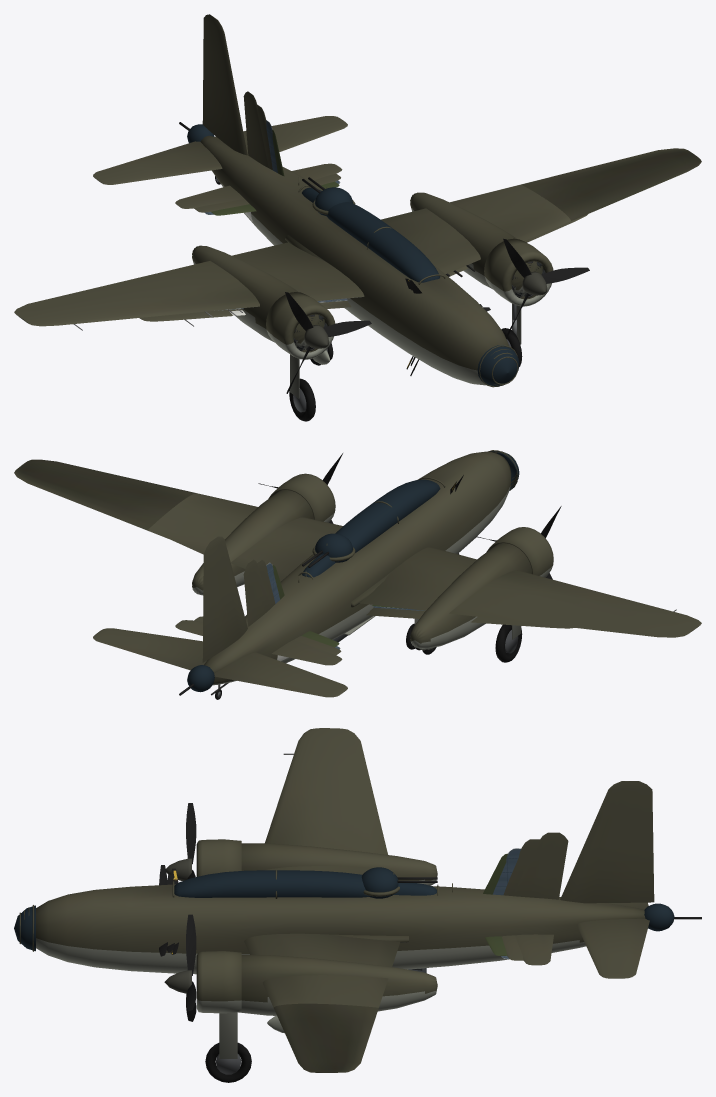
The model's file is aircraft.glb.
3 renders of one model, top to bottom at view 1: azimuth 30°, elevation 25°; view 2: azimuth 150°, elevation 25°; view 3: azimuth 270°, elevation 25°, orthographic. The views are drawn at different scales.
Visible parts, largest first — view 1: bomber_body, bomber_wingOut, bomber_glass, torpedo_body, bomber_prop0_mesh, bomber_prop1_mesh, dive_body, bomber_gearR, raider_body; view 2: bomber_body, bomber_wingOut, bomber_glass, torpedo_body, dive_body, bomber_gearR, raider_body, torpedo_glass; view 3: bomber_body, bomber_glass, bomber_wingOut, torpedo_body, bomber_gearL, bomber_prop0_mesh, dive_body, bomber_prop1_mesh, raider_body, fighter_body.
Part boxes in pixels (x1,y1,x2,y2): bomber_body: [14, 14, 570, 387]; bomber_wingOut: [521, 148, 701, 220]; bomber_glass: [187, 124, 519, 386]; torpedo_body: [139, 91, 467, 326]; bomber_prop0_mesh: [503, 238, 589, 338]; bomber_prop1_mesh: [285, 292, 371, 393]; dive_body: [194, 104, 348, 365]; bomber_gearR: [289, 354, 315, 421]; raider_body: [211, 129, 449, 312]; bomber_body: [93, 450, 701, 699]; bomber_wingOut: [14, 459, 195, 530]; bomber_glass: [187, 451, 519, 692]; torpedo_body: [175, 559, 574, 665]; dive_body: [194, 559, 436, 655]; bomber_gearR: [495, 624, 522, 662]; raider_body: [272, 565, 404, 647]; torpedo_glass: [302, 554, 335, 577]; bomber_body: [19, 728, 701, 1015]; bomber_glass: [14, 867, 674, 951]; bomber_wingOut: [274, 1003, 378, 1072]; torpedo_body: [408, 832, 568, 972]; bomber_gearL: [205, 1012, 251, 1082]; bomber_prop0_mesh: [164, 914, 196, 1021]; dive_body: [267, 839, 539, 1033]; bomber_prop1_mesh: [165, 803, 196, 880]; raider_body: [483, 853, 507, 955]; fighter_body: [493, 848, 520, 959].
Size of what is drawn, in the model's own units: 22.2 by 7.48 by 18.75.
Materials: 4 (1 with a texture image).
